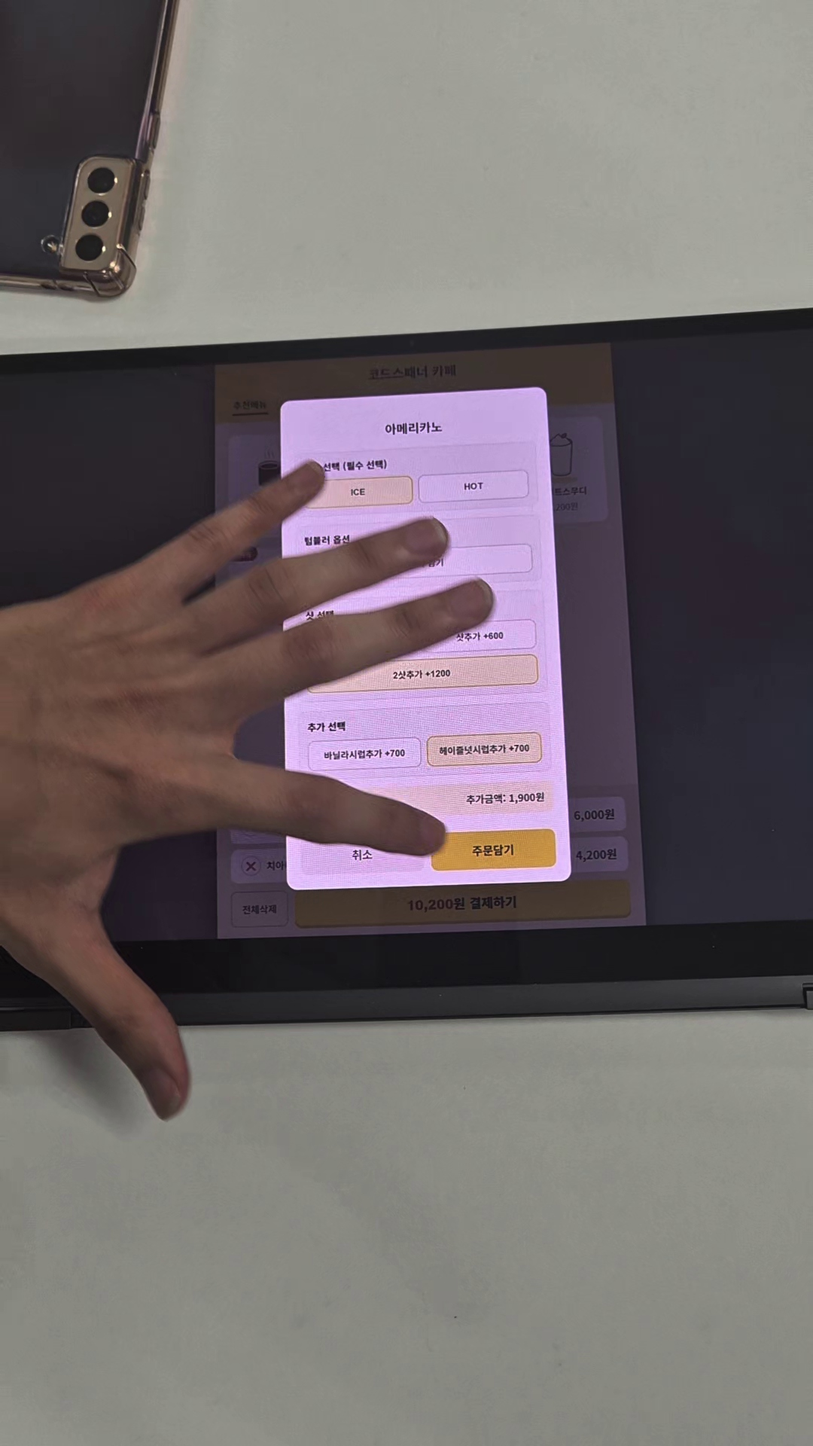action_button: (295, 881, 631, 927), (431, 828, 557, 871), (300, 834, 424, 874), (231, 892, 287, 927)
option_button: (307, 654, 538, 693), (426, 732, 541, 766), (420, 620, 536, 653), (309, 737, 421, 771), (418, 470, 529, 503), (305, 476, 413, 509)
popup_modal: (280, 386, 571, 889)
